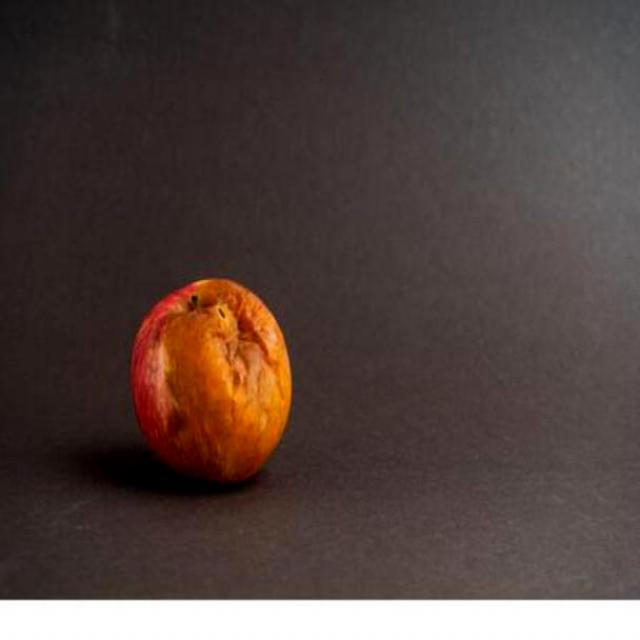ROT: (132, 266, 318, 492)
